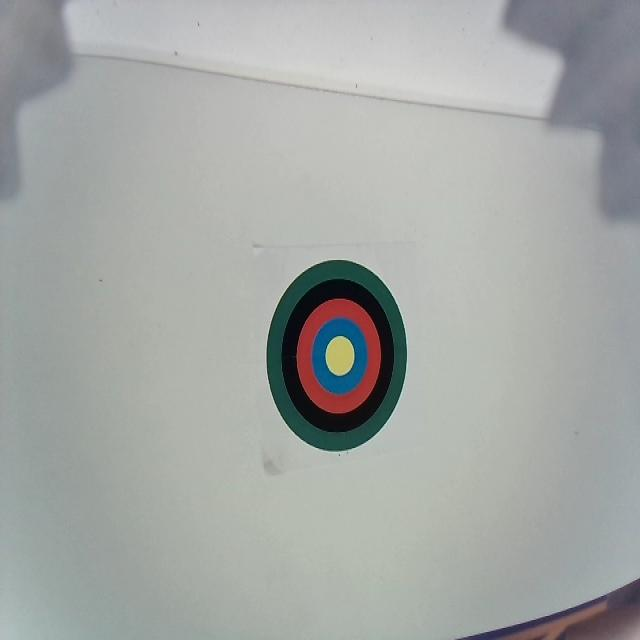cogn: (266, 260, 408, 453)
